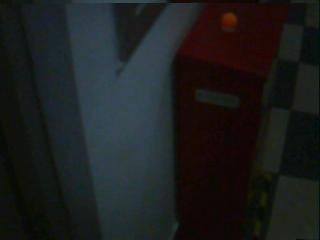oball: (222, 11, 237, 27)
